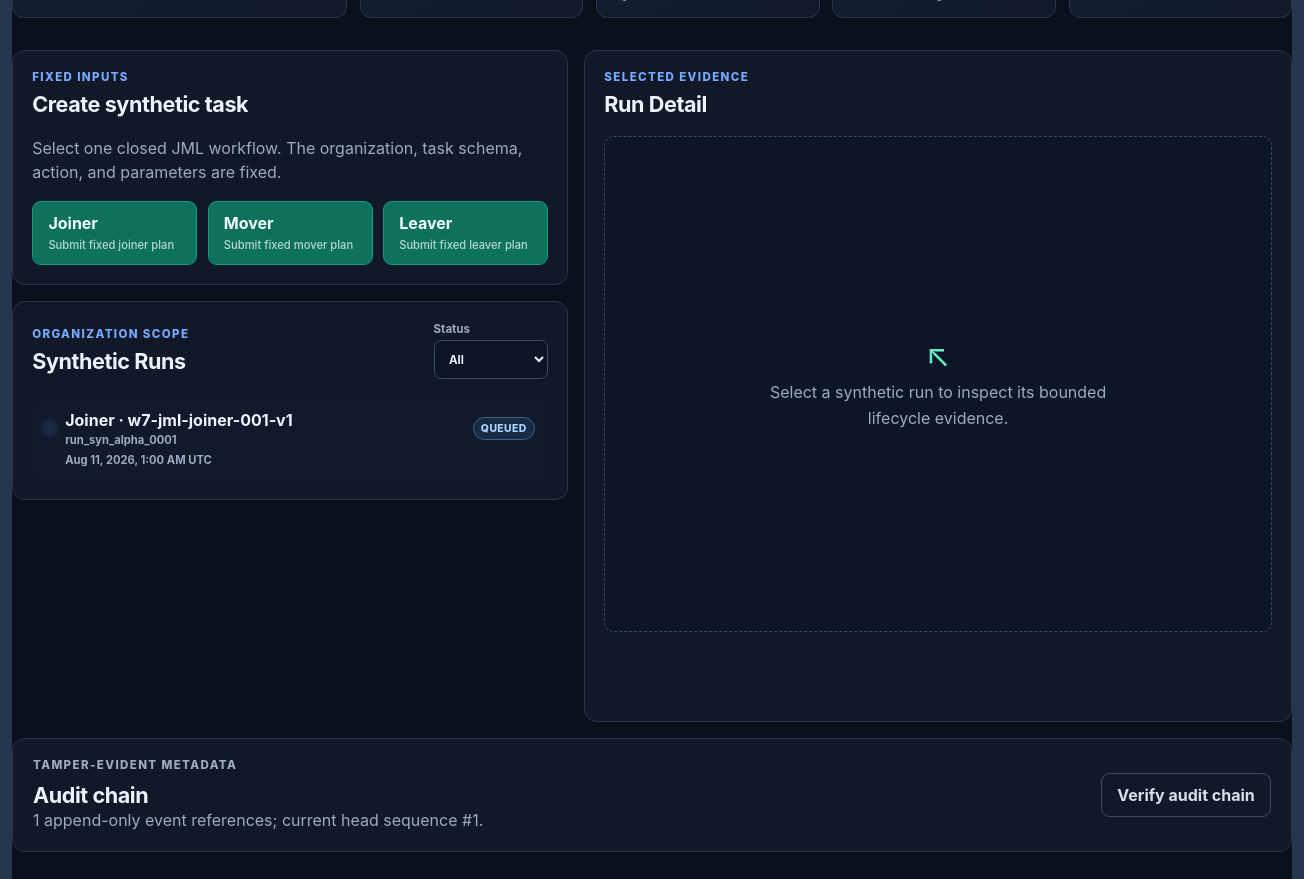
Test case: DemoConsole › never renders or stores access, nonce, secret, hash, or raw payload material
(page scrolled)
Click the 4th button.
click(90, 420)  # box [32,397,548,480]
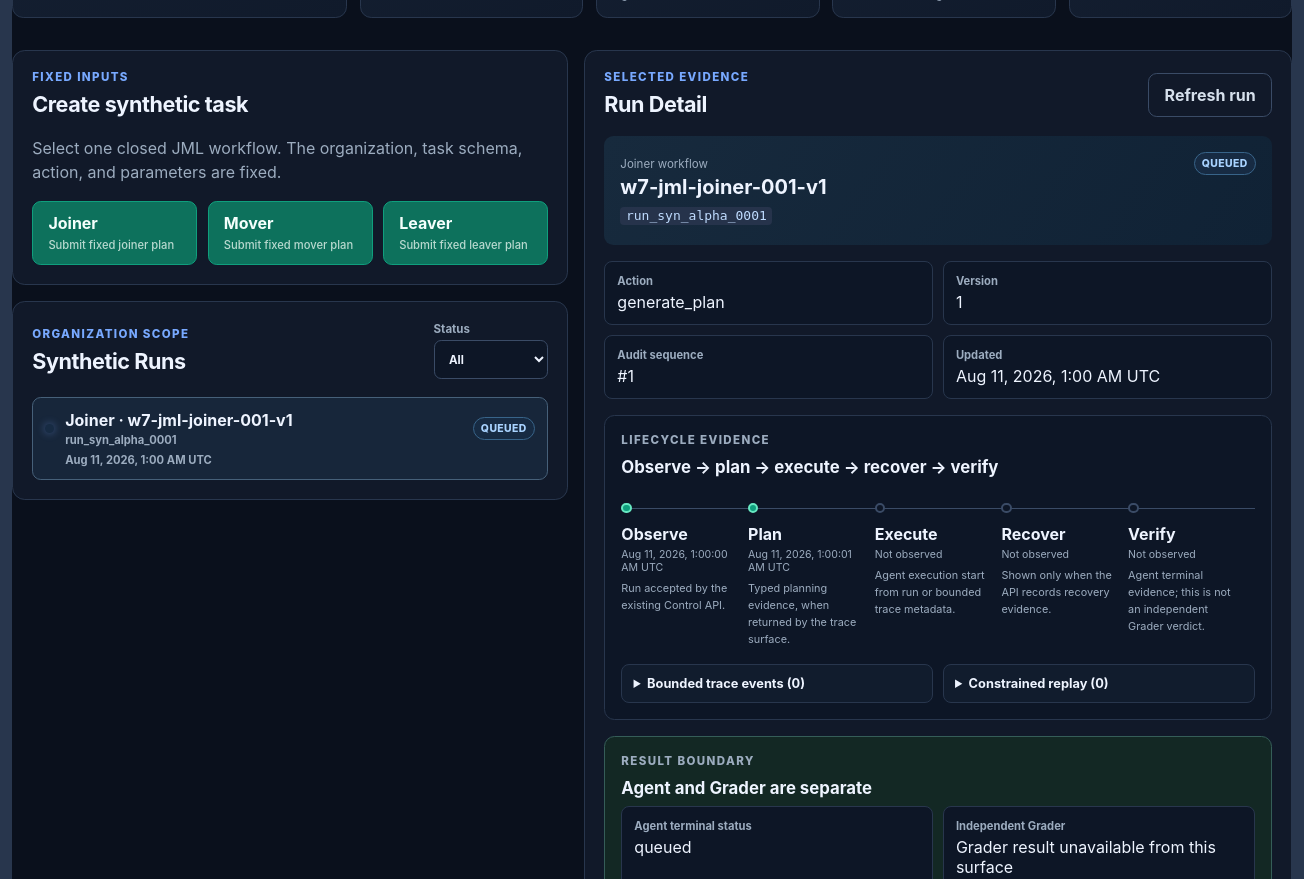
expect the heading "Agent and Grader are separate" is shown: met, box [621,778,872,798]
